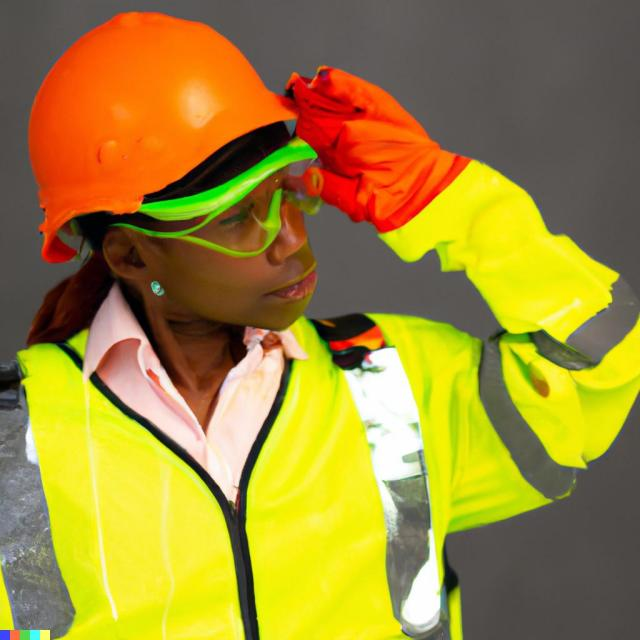Reflective-Jacket: (2, 312, 474, 638)
Safety-Helmet: (21, 11, 323, 231)
